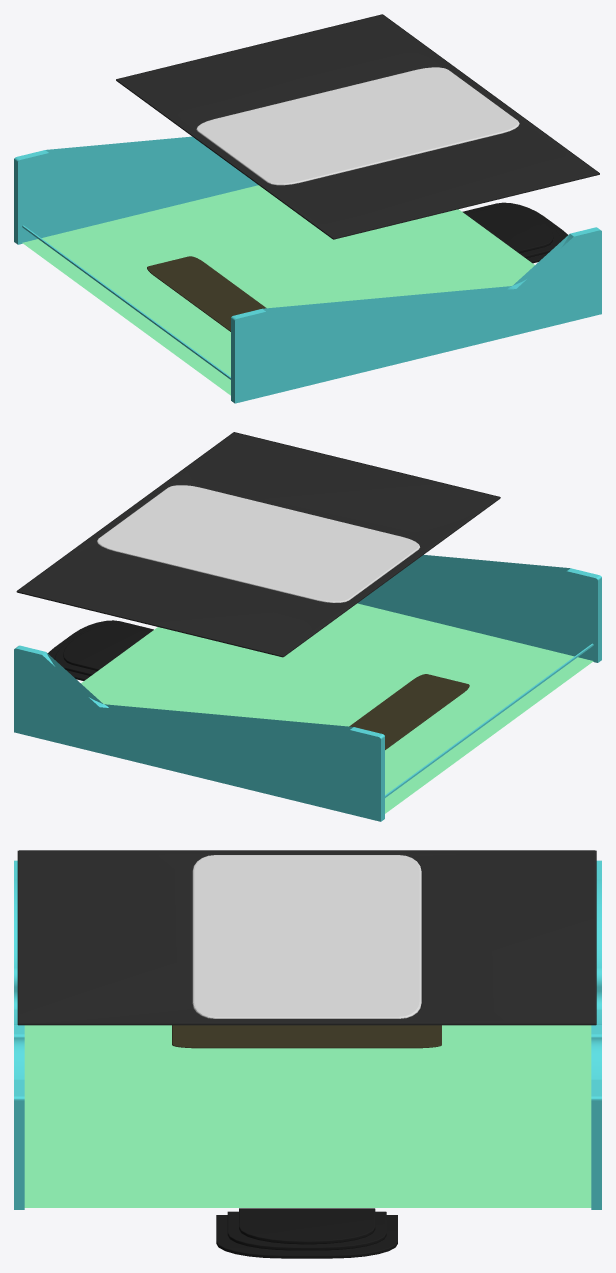
File: Training Labs.fbx
3 views of the same model, one above another, from view 1: azimuth 30°, elevation 25°; view 2: azimuth 150°, elevation 25°; view 3: azimuth 270°, elevation 25° (orthographic). The views are drawn at different scales.
Visible parts, largest first — view 1: Floor.004, Roof.004, Wall.002, RoofPanel.003, Wall.001, Stairs.003, Grill; view 2: Floor.004, Roof.004, Wall.001, RoofPanel.003, Wall.002, Stairs.003, Grill; view 3: Floor.004, Roof.004, RoofPanel.003, Stairs.003, Wall.001, Wall.002.
Boxes of the visible parts, x1,y1,x2,y2 form: Floor.004: [22, 185, 534, 395]; Roof.004: [116, 14, 599, 239]; Wall.002: [231, 227, 601, 403]; RoofPanel.003: [196, 67, 519, 185]; Wall.001: [14, 136, 258, 244]; Stairs.003: [462, 202, 567, 263]; Grill: [22, 225, 230, 379]; Floor.004: [81, 603, 593, 813]; Roof.004: [16, 432, 500, 657]; Wall.001: [14, 645, 384, 821]; RoofPanel.003: [97, 485, 420, 602]; Wall.002: [357, 555, 601, 662]; Stairs.003: [48, 620, 153, 680]; Grill: [385, 643, 593, 797]; Floor.004: [24, 1025, 591, 1207]; Roof.004: [17, 850, 596, 1025]; RoofPanel.003: [192, 855, 421, 1018]; Stairs.003: [216, 1208, 397, 1258]; Wall.001: [591, 860, 601, 1209]; Wall.002: [14, 860, 24, 1209].
Bounding box in the file's own units: 1639 × 539 × 1465.
